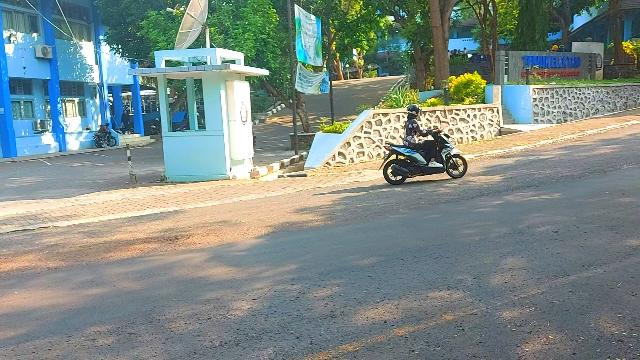helm: (408, 105, 423, 117)
motor: (380, 121, 469, 185)
